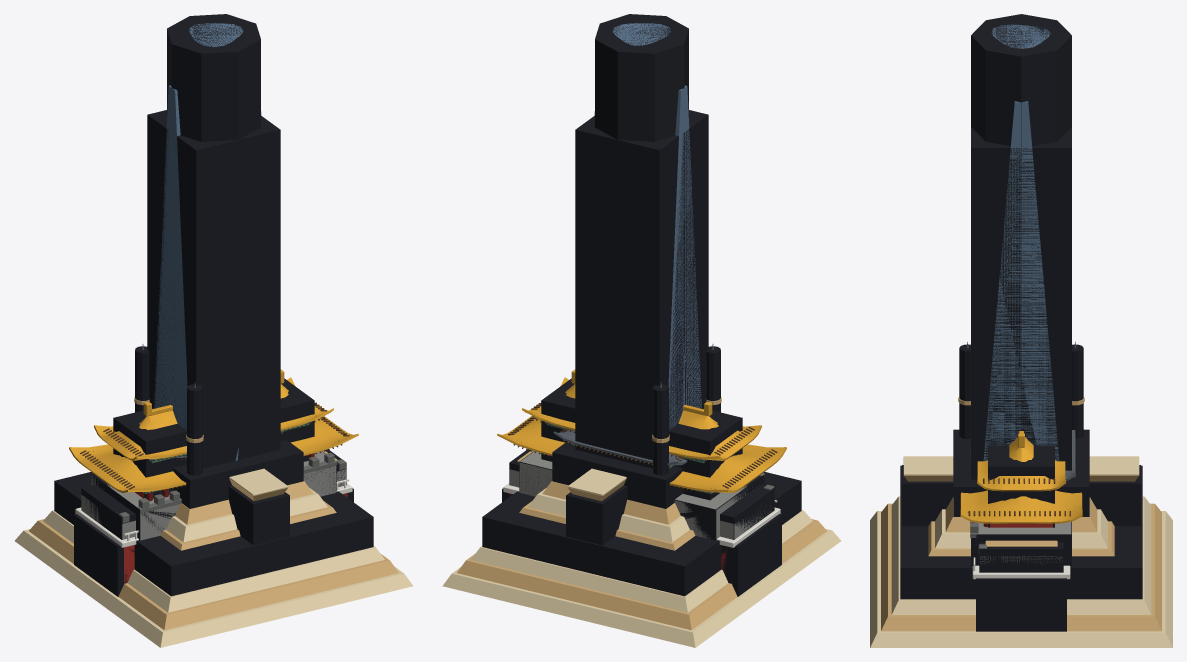
The model's file is landmarks.glb.
The picture shows the model from 3 angles, left to right: view 1: azimuth 30°, elevation 25°; view 2: azimuth 150°, elevation 25°; view 3: azimuth 270°, elevation 25°; orthographic projection. The views are drawn at different scales.
Visible parts, largest first — view 1: swfc__col0, pyramid_big, pyramid_big__col0, shanghai_tower__col0, beijing_gate, swfc, beijing_gate__col7, pyramid_big__col1, nanjing_gate, beijing_gate__col0, luxor_pylon__col1, city_wall__col0 (+6 smaller); view 2: swfc__col0, pyramid_big, pyramid_big__col0, shanghai_tower__col0, beijing_gate, swfc, beijing_gate__col7, pyramid_big__col1, nanjing_gate, beijing_gate__col0, luxor_pylon__col0, city_wall__col0 (+6 smaller); view 3: swfc__col0, pyramid_big, swfc, shanghai_tower__col0, pyramid_big__col0, beijing_gate, beijing_gate__col1, pyramid_big__col1, luxor_pylon, beijing_gate__col7, city_wall__col0, luxor_pylon__col0 (+7 smaller).
Part boxes in pixels (box(x1,y1,x2,y2)): swfc__col0: box(147, 110, 280, 468); pyramid_big: box(15, 481, 413, 647); pyramid_big__col0: box(54, 472, 373, 596); shanghai_tower__col0: box(167, 14, 260, 141); beijing_gate: box(69, 369, 358, 583); swfc: box(154, 85, 261, 429); beijing_gate__col7: box(113, 378, 314, 498); pyramid_big__col1: box(173, 440, 303, 508); nanjing_gate: box(91, 431, 336, 540); beijing_gate__col0: box(74, 514, 134, 596); luxor_pylon__col1: box(228, 485, 289, 545); city_wall__col0: box(81, 449, 346, 539); swfc__col0: box(575, 110, 708, 468); pyramid_big: box(442, 481, 840, 647); pyramid_big__col0: box(482, 472, 801, 596); shanghai_tower__col0: box(595, 14, 688, 141); beijing_gate: box(497, 369, 786, 572); swfc: box(594, 85, 701, 429); beijing_gate__col7: box(541, 378, 742, 500); pyramid_big__col1: box(552, 441, 682, 508); nanjing_gate: box(519, 429, 764, 540); beijing_gate__col0: box(721, 514, 781, 596); luxor_pylon__col0: box(566, 485, 627, 545); city_wall__col0: box(509, 449, 774, 539); swfc__col0: box(971, 127, 1071, 479); pyramid_big: box(870, 496, 1172, 647); swfc: box(983, 101, 1059, 461); shanghai_tower__col0: box(971, 14, 1071, 430); pyramid_big__col0: box(900, 465, 1142, 599); beijing_gate: box(960, 431, 1082, 579); beijing_gate__col1: box(976, 578, 1066, 631); pyramid_big__col1: box(953, 429, 1089, 516); luxor_pylon: box(903, 456, 1139, 481); beijing_gate__col7: box(988, 445, 1054, 527); city_wall__col0: box(979, 542, 1063, 572); luxor_pylon__col0: box(1089, 465, 1140, 526).
Size of the model in its own units: 18 by 36.48 by 18.
